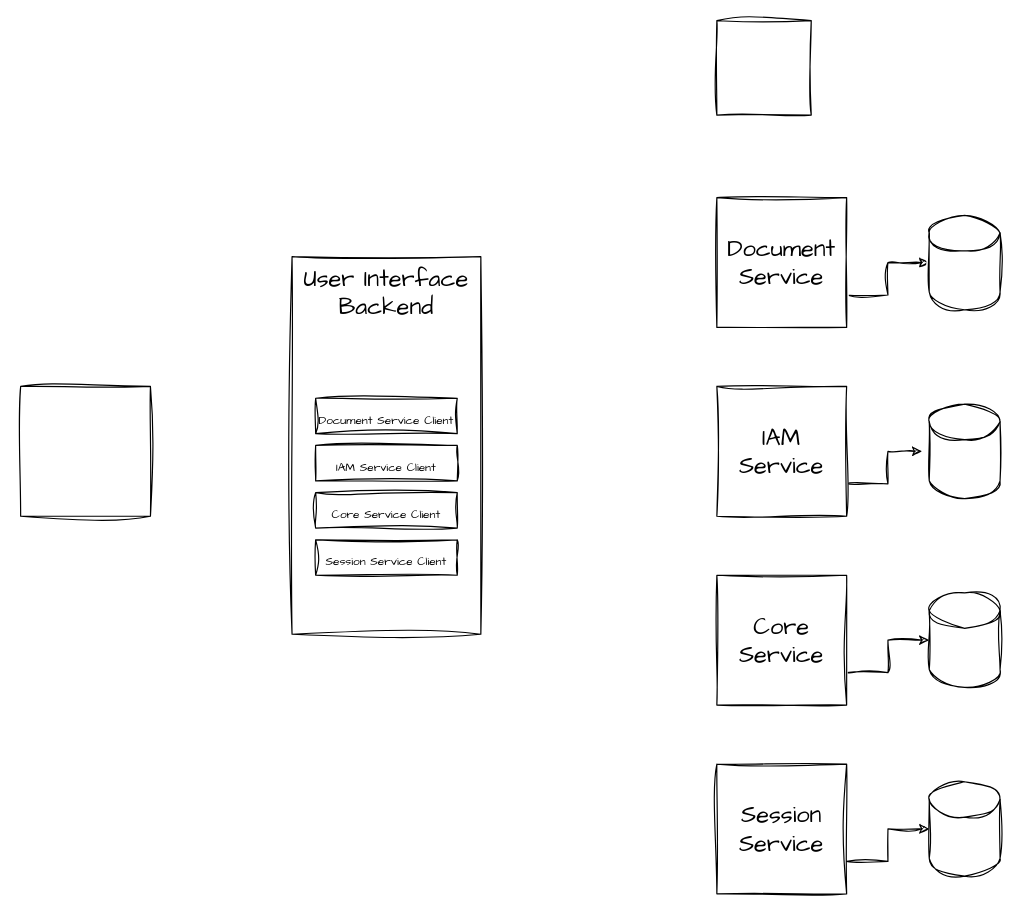
The diagram is 1021 pixels wide and 914 high, and some of its shapes have lost their labels. Each missing label, with the centre of its shape:
Kafka cluster: (763,67)
User Interface in Browser: (84,450)
